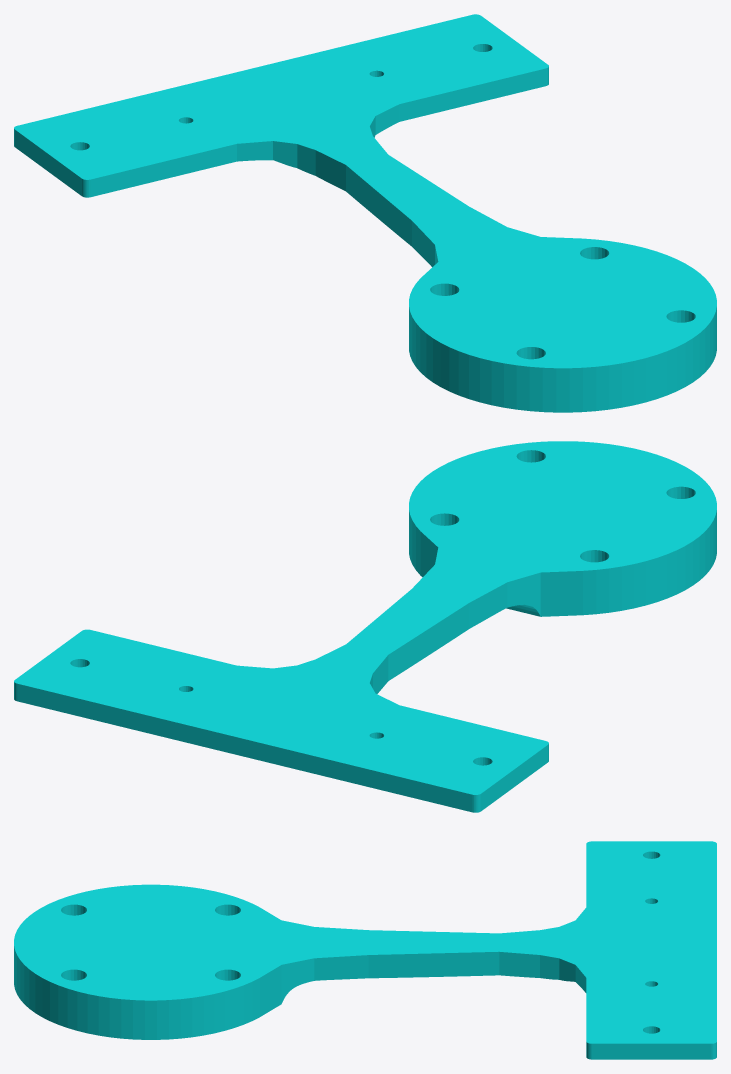
Rendered from realsense_couplerv3.dae.
3 renders of one model, top to bottom at view 1: azimuth 30°, elevation 25°; view 2: azimuth 150°, elevation 25°; view 3: azimuth 270°, elevation 25°, orthographic. The views are drawn at different scales.
Parts seen in each view (by area): view 1: Realsense Coupling V3; view 2: Realsense Coupling V3; view 3: Realsense Coupling V3.
Boxes of the visible parts, x1,y1,x2,y2 form: Realsense Coupling V3: (14, 14, 716, 412); Realsense Coupling V3: (14, 441, 716, 812); Realsense Coupling V3: (14, 841, 716, 1059).
Bounding box in the file's own units: 0.11 × 0.1615 × 0.01.
